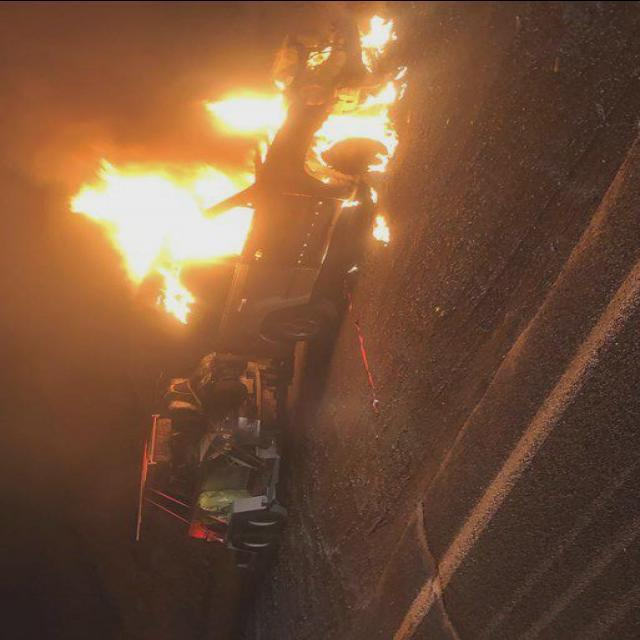Fire: (67, 169, 257, 339), (317, 67, 409, 182), (210, 80, 288, 160), (356, 16, 400, 51), (370, 212, 390, 242), (334, 195, 362, 211)
